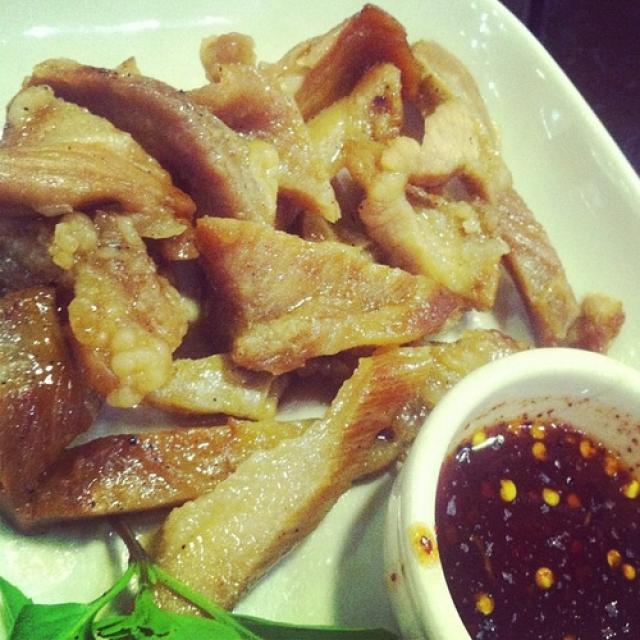猪肉菜式: (5, 10, 626, 616)
